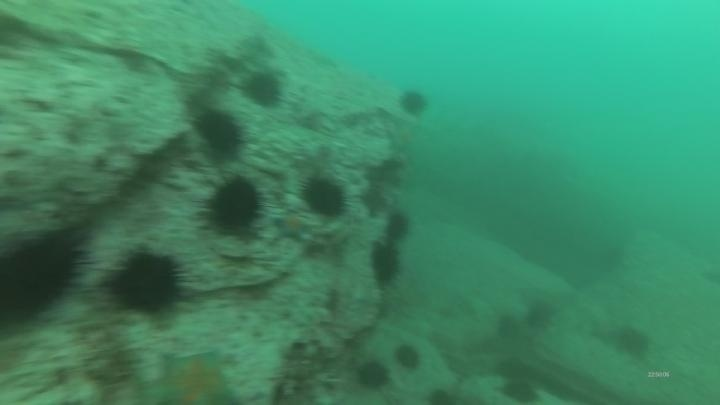echinus: (0, 228, 89, 328), (105, 246, 190, 320), (199, 173, 268, 238), (192, 106, 247, 161), (299, 173, 349, 220), (240, 68, 285, 110), (367, 240, 404, 288), (611, 323, 653, 361), (353, 357, 392, 393), (522, 296, 558, 332), (499, 376, 541, 404), (382, 208, 414, 244), (397, 87, 431, 120), (392, 341, 424, 374), (493, 311, 522, 342)
starfish: (144, 347, 241, 405), (271, 210, 315, 244), (385, 117, 421, 157)
